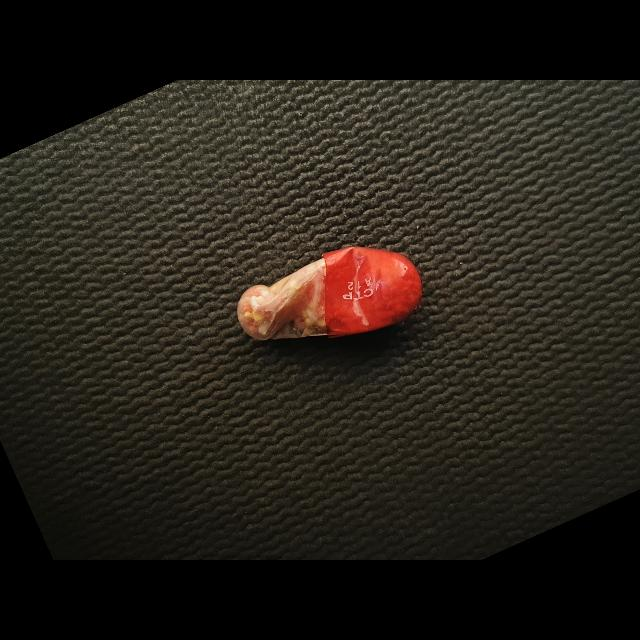Defective Capsule: (237, 246, 423, 341)
